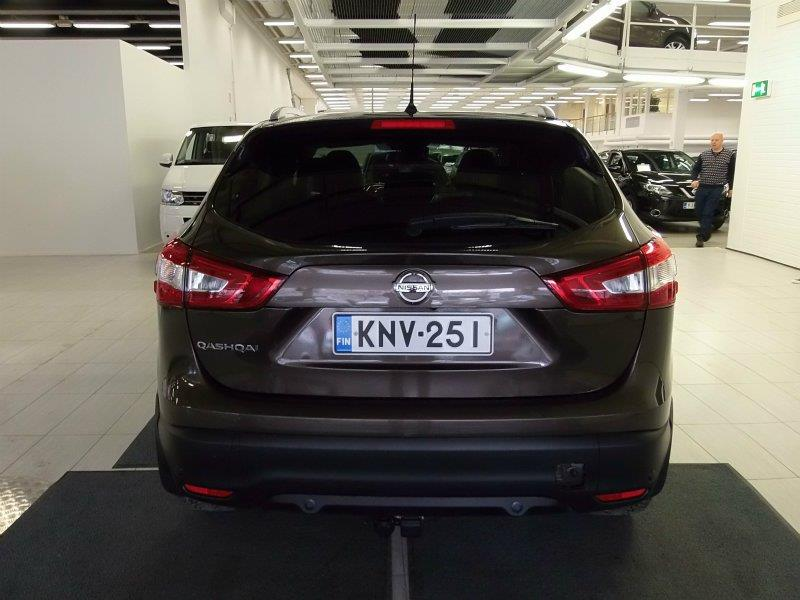license: (334, 316, 496, 357)
